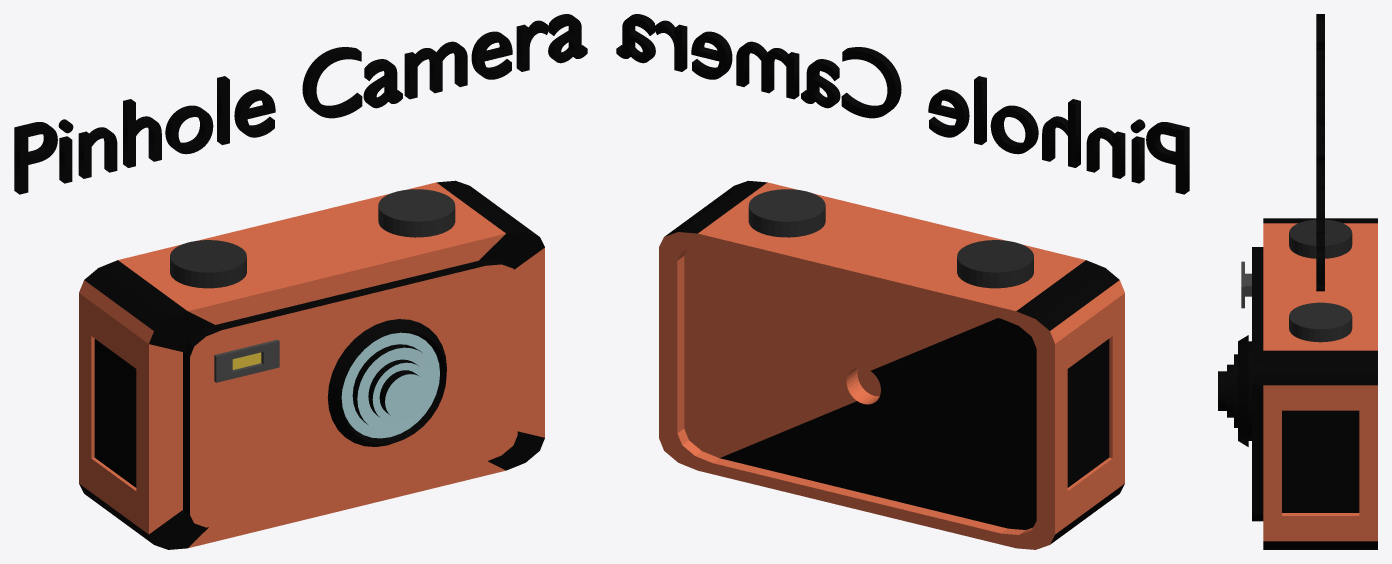
The model's file is Pinhole camera.gltf.
The picture shows the model from 3 angles, left to right: view 1: azimuth 30°, elevation 25°; view 2: azimuth 150°, elevation 25°; view 3: azimuth 270°, elevation 25°; orthographic projection. The views are drawn at different scales.
Visible parts, largest first — view 1: Cube, Text, Cylinder, Cylinder.002, Cylinder.001, Cube.001; view 2: Cube, Text, Cylinder.002, Cylinder.001; view 3: Cube, Cylinder, Text, Cylinder.002, Cylinder.001, Cube.001.
Boxes of the visible parts, <box> form: Cube: <box>79,180,544,549</box>; Text: <box>14,14,587,194</box>; Cylinder: <box>327,319,446,446</box>; Cylinder.002: <box>378,189,455,237</box>; Cylinder.001: <box>170,240,246,288</box>; Cube.001: <box>214,339,279,382</box>; Cube: <box>659,180,1124,549</box>; Text: <box>616,14,1189,194</box>; Cylinder.002: <box>748,189,825,237</box>; Cylinder.001: <box>957,240,1033,288</box>; Cube: <box>1252,218,1377,549</box>; Cylinder: <box>1218,335,1251,446</box>; Text: <box>1316,14,1324,291</box>; Cylinder.002: <box>1289,302,1352,342</box>; Cylinder.001: <box>1289,219,1352,258</box>; Cube.001: <box>1241,261,1251,308</box>.
Size of the model in its own units: 3.8 by 2.74 by 1.13.
